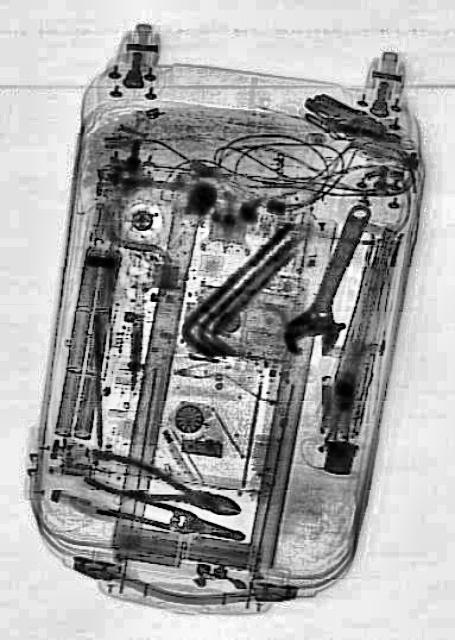Pliers: (81, 440, 245, 534), (95, 486, 245, 548)
Wrench: (276, 188, 386, 372)
